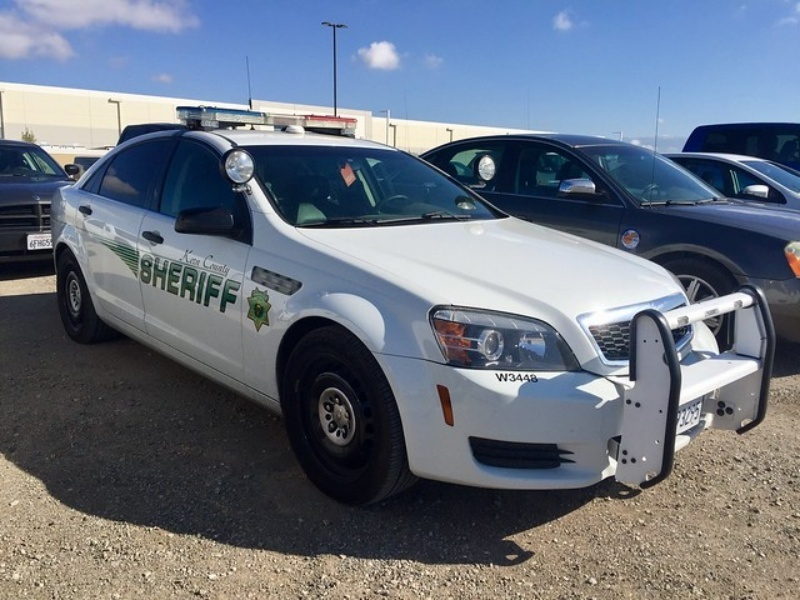policecar: (44, 75, 774, 527)
